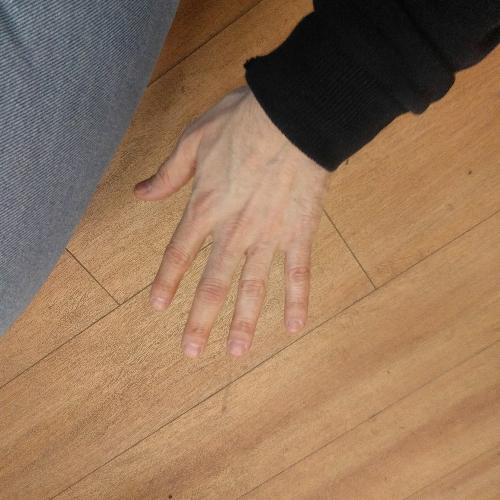paper: (124, 51, 362, 370)
